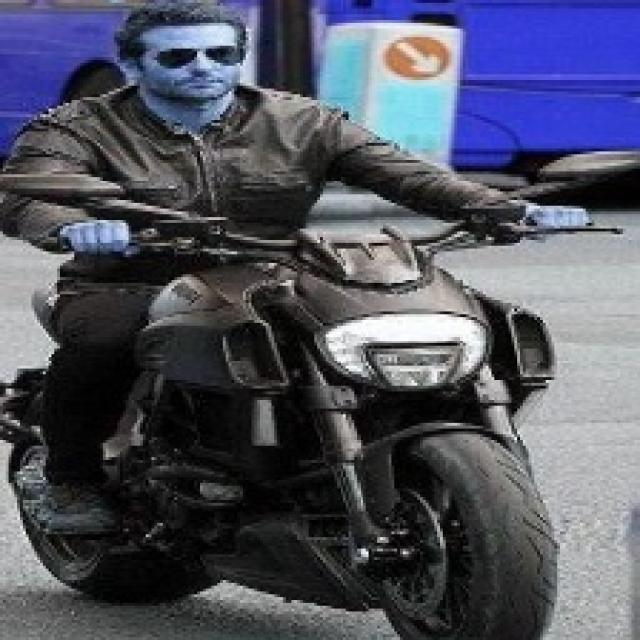bike: (34, 222, 576, 639)
